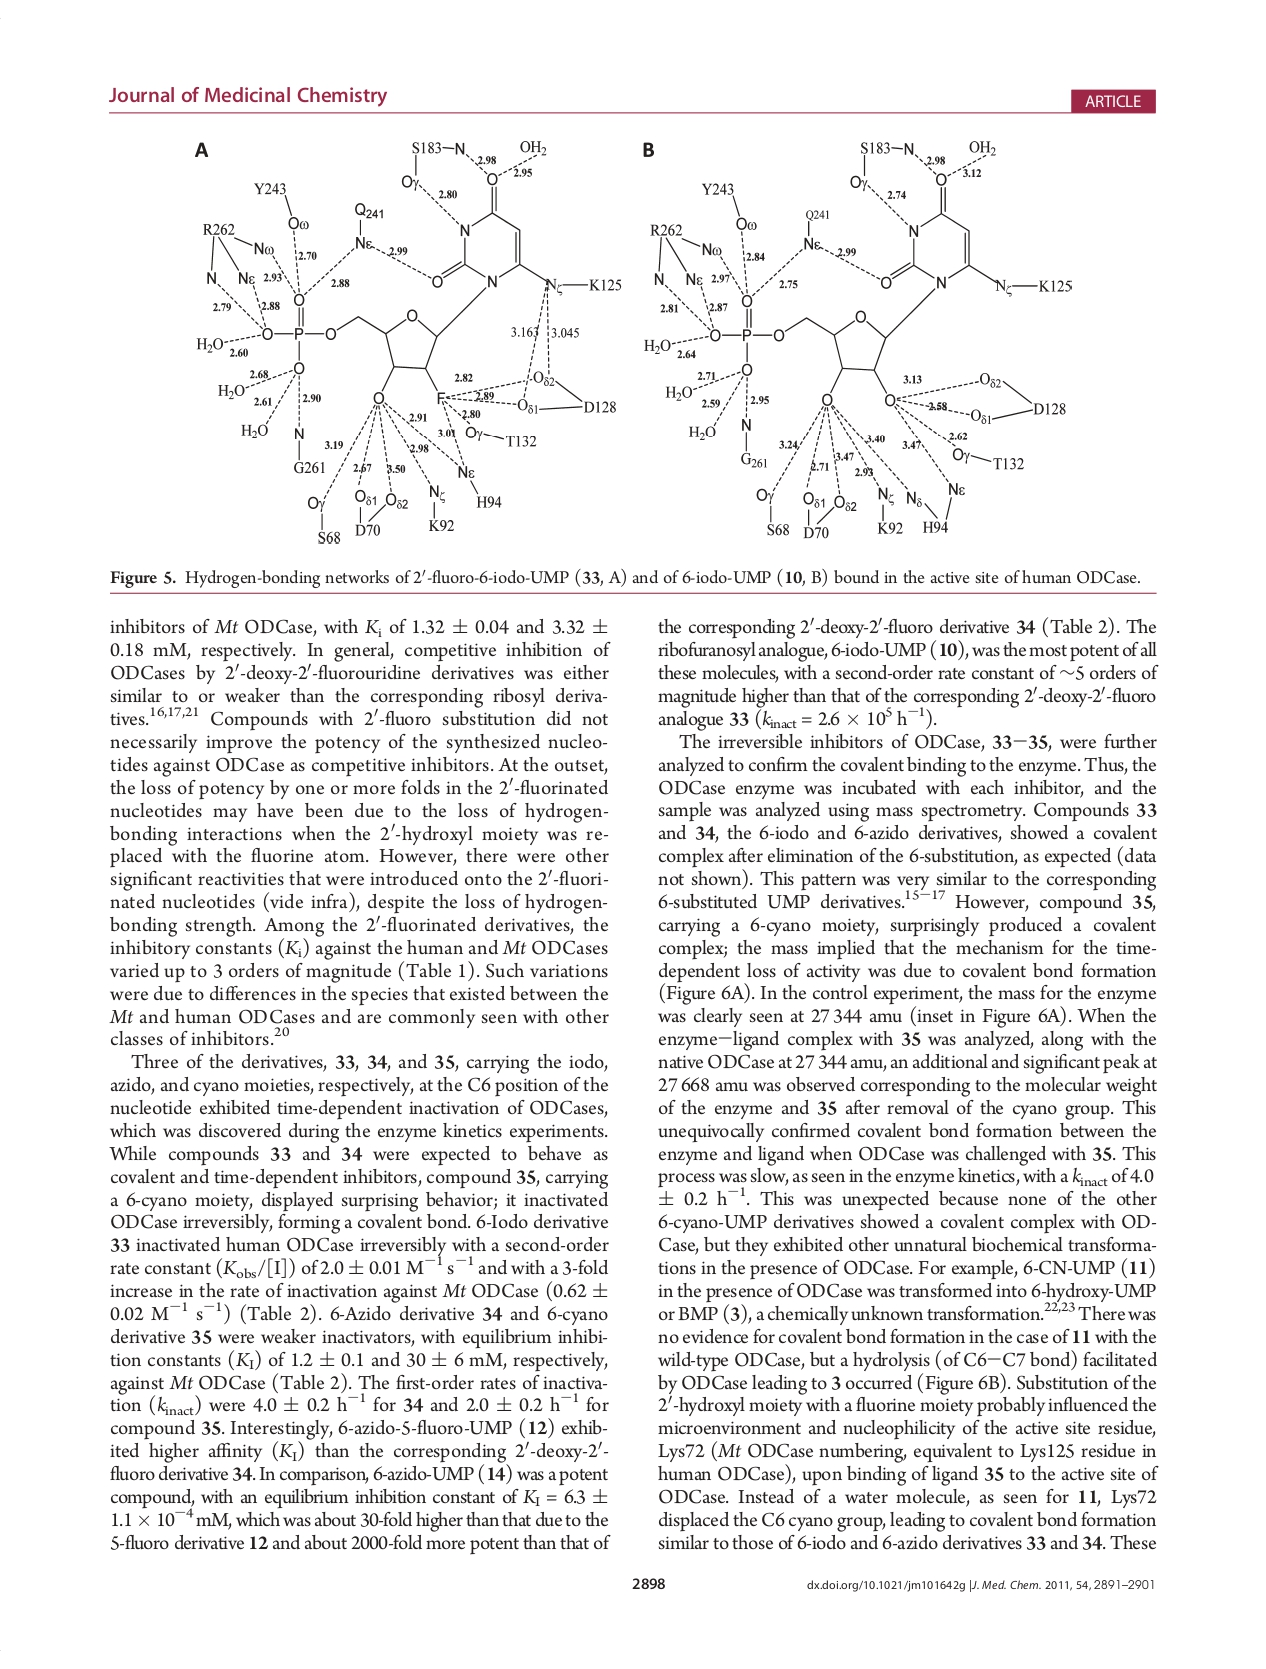exist_molecular: (257, 172, 557, 414), (707, 172, 1013, 407)
